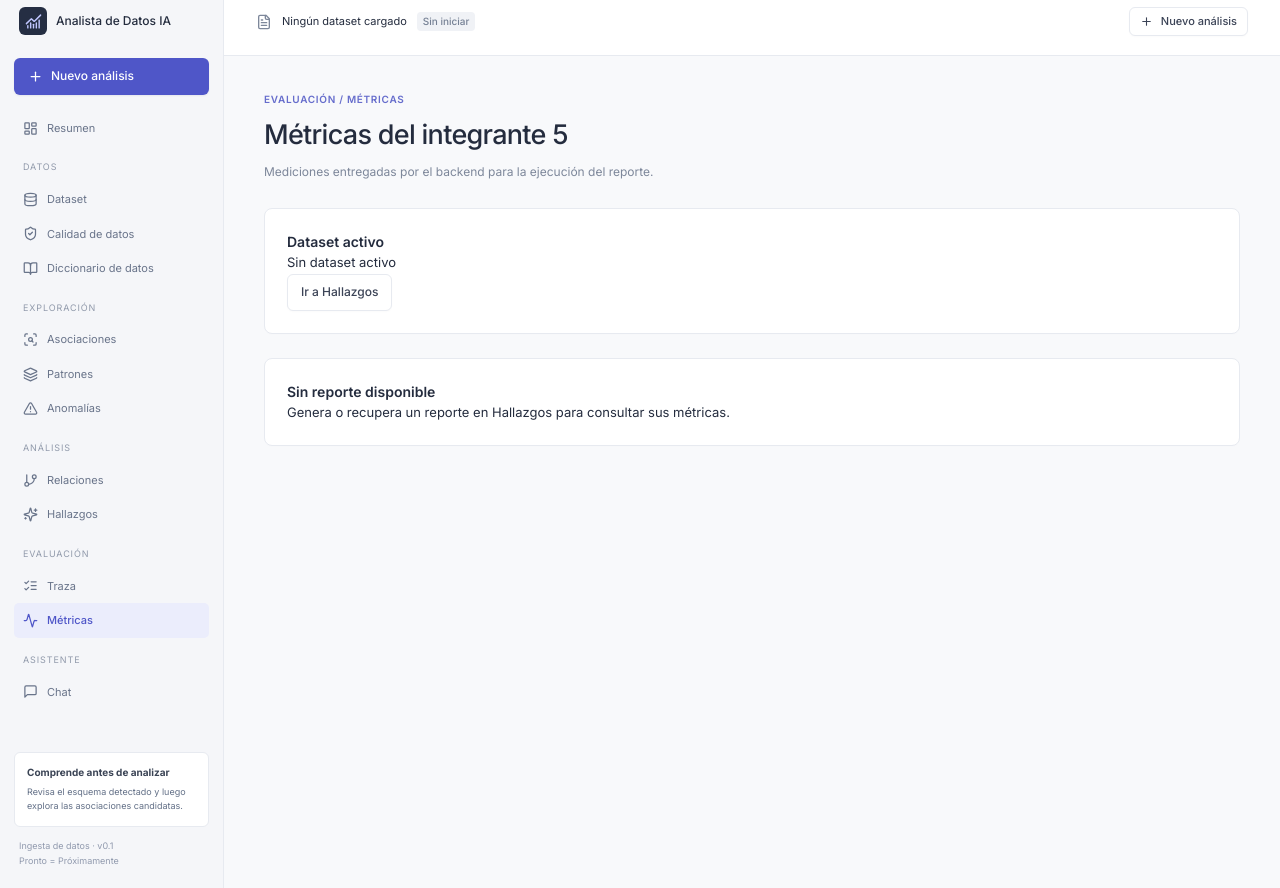
SUCCESS preserves partial measurements, causes and provenance
Step 1. Click the link "Hallazgos" → click(60, 515), box [23,507,98,522]
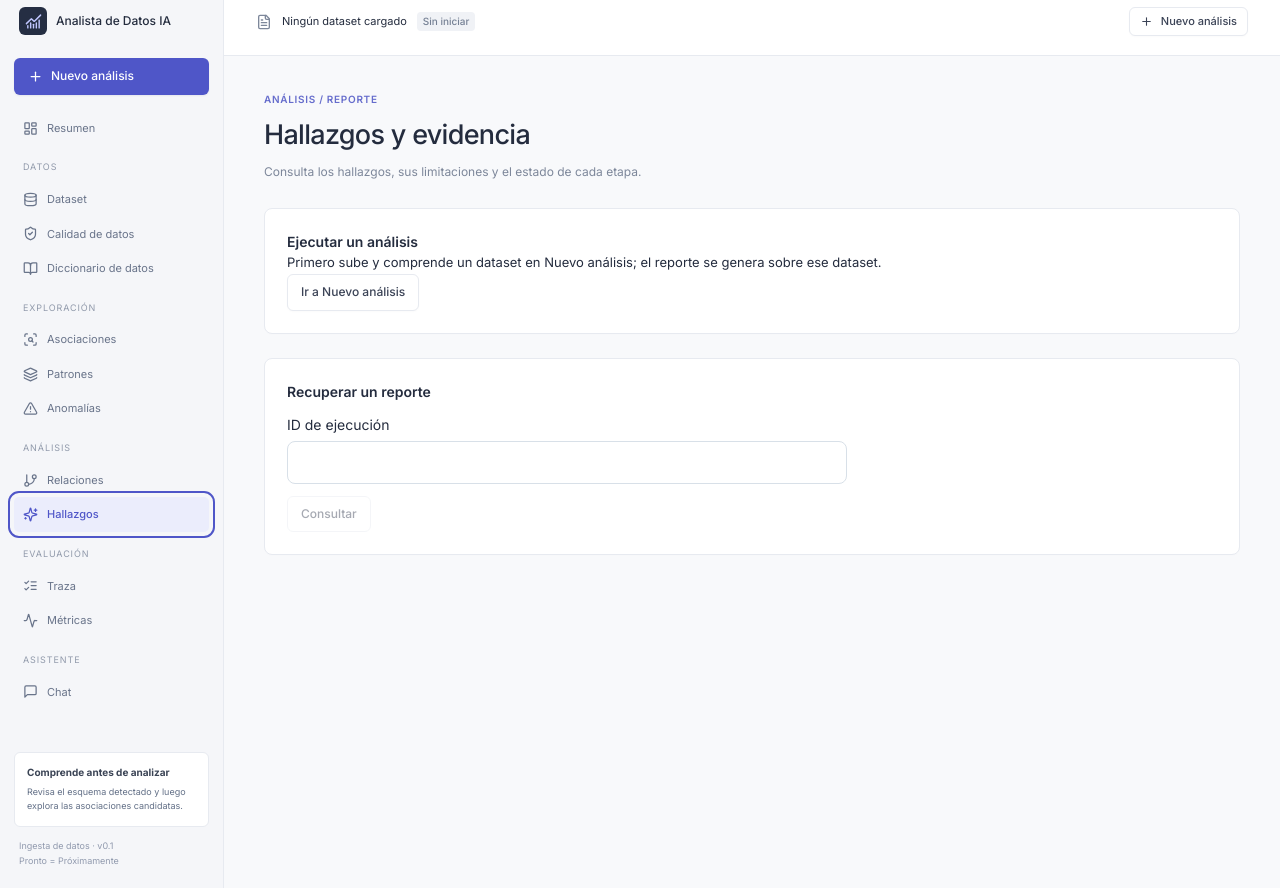
Step 2. Type "metrics-run-a" into the field labelled "ID de ejecución" → (567, 462), box [287,441,847,484]
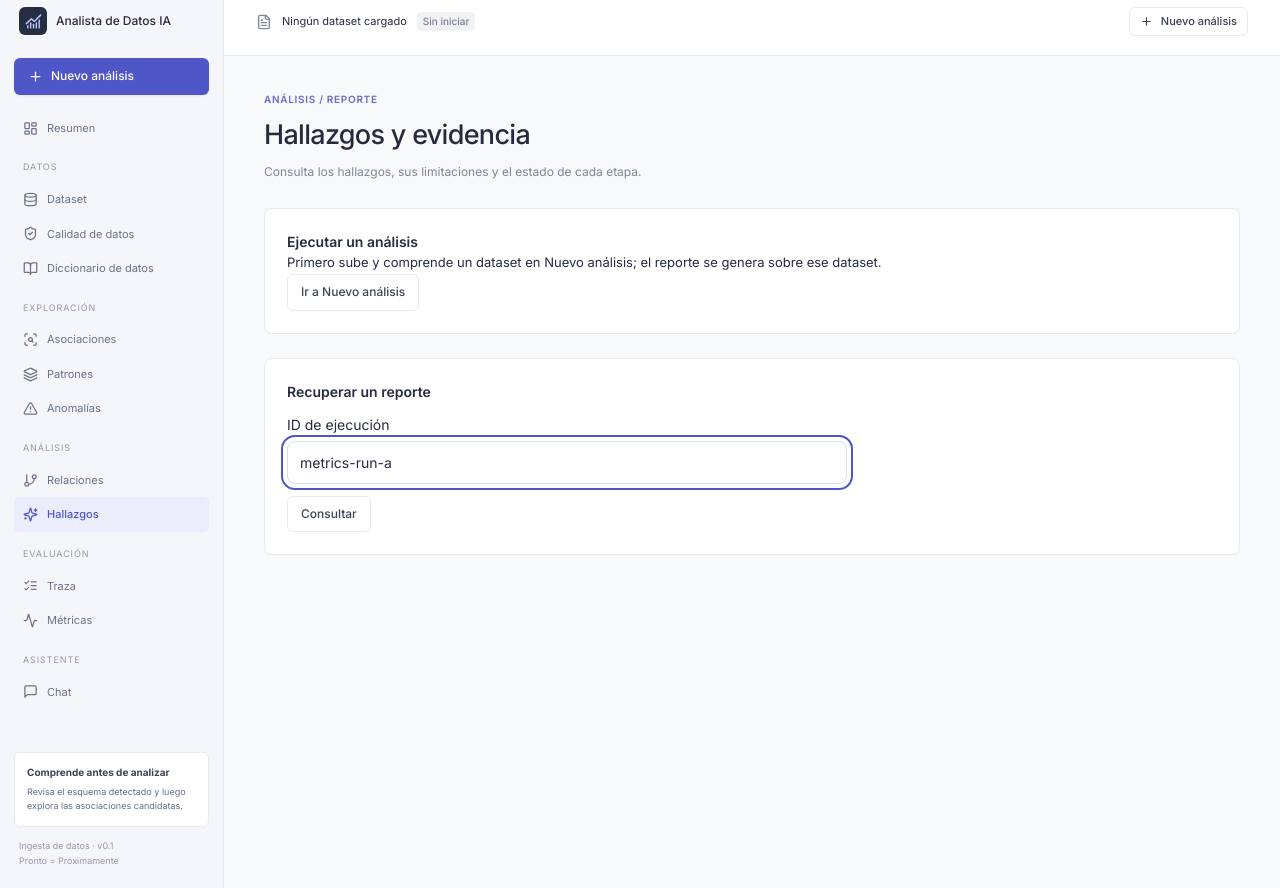
Step 3. Click the button "Consultar" → click(329, 514), box [287,496,371,532]
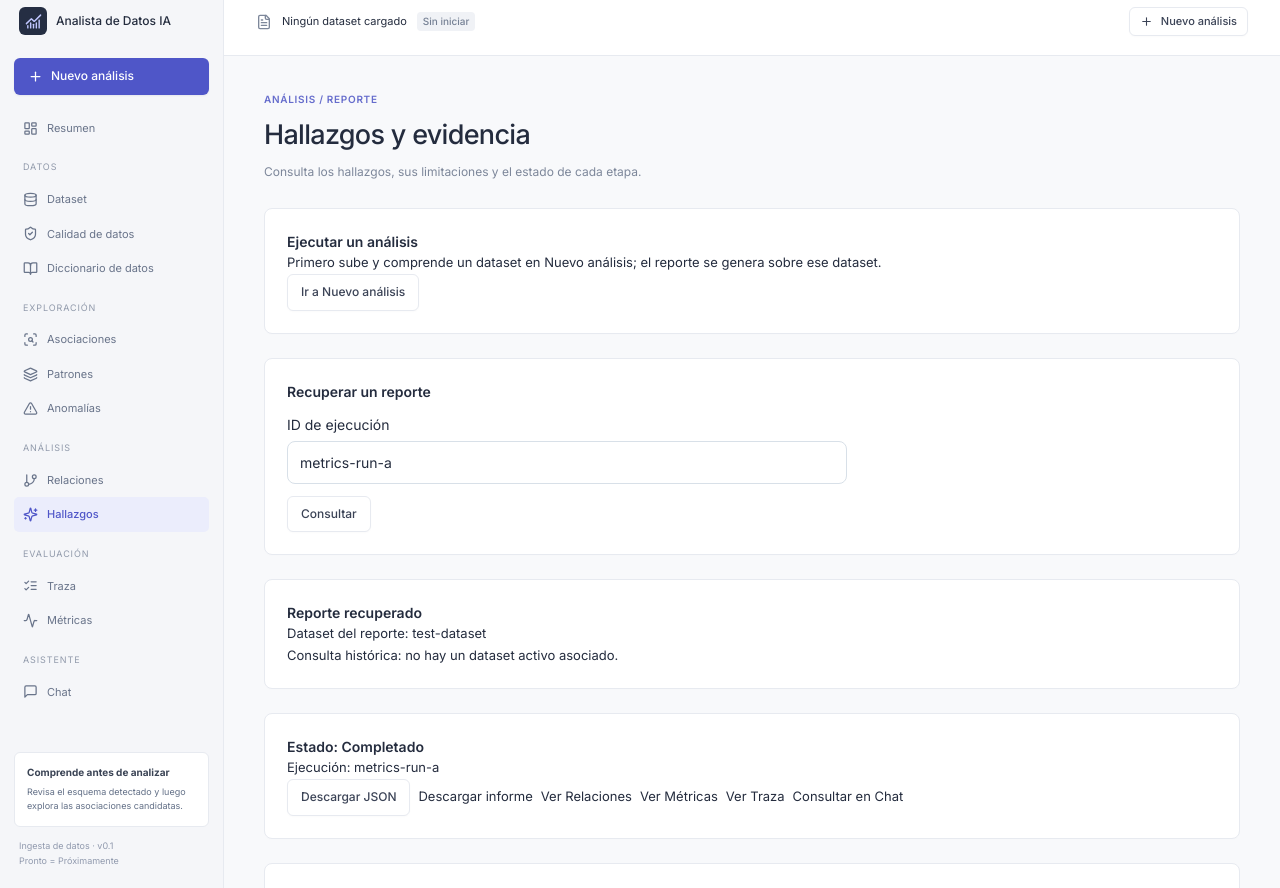
Step 4. Click the link "Métricas" → click(58, 620), box [23,613,92,628]
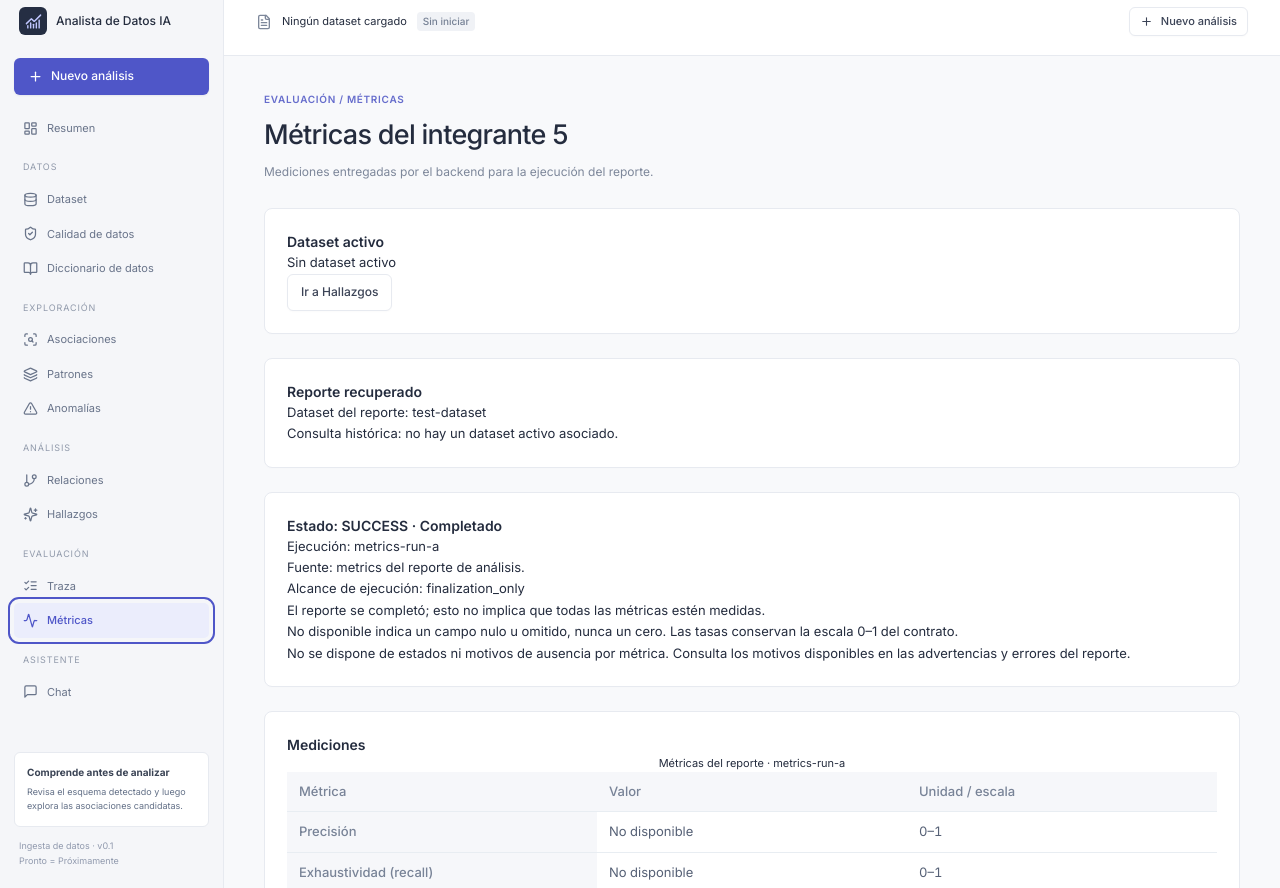
Now the text "Dataset del reporte: test-dataset" is shown, box [287,404,486,420]
Now the row "Precisión No disponible 0–1" is shown, box [287,812,1217,852]
Now the text "Alcance de ejecución: finalization_only" is shown, box [287,580,525,596]
Step 5. Click the link "Resumen" → click(59, 128), box [23,120,95,136]
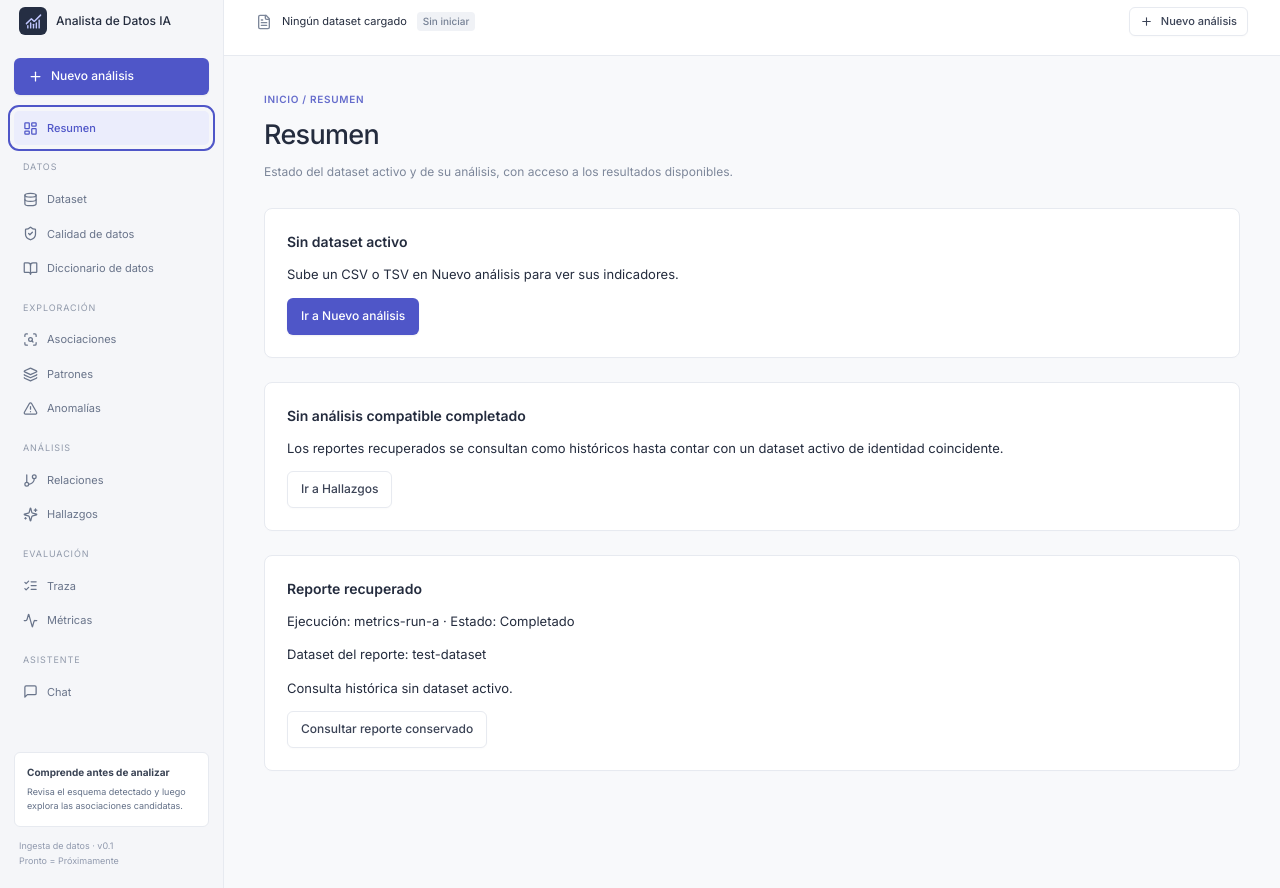
Step 6. Click the link "Métricas" → click(58, 620), box [23,613,92,628]
(page scrolled)
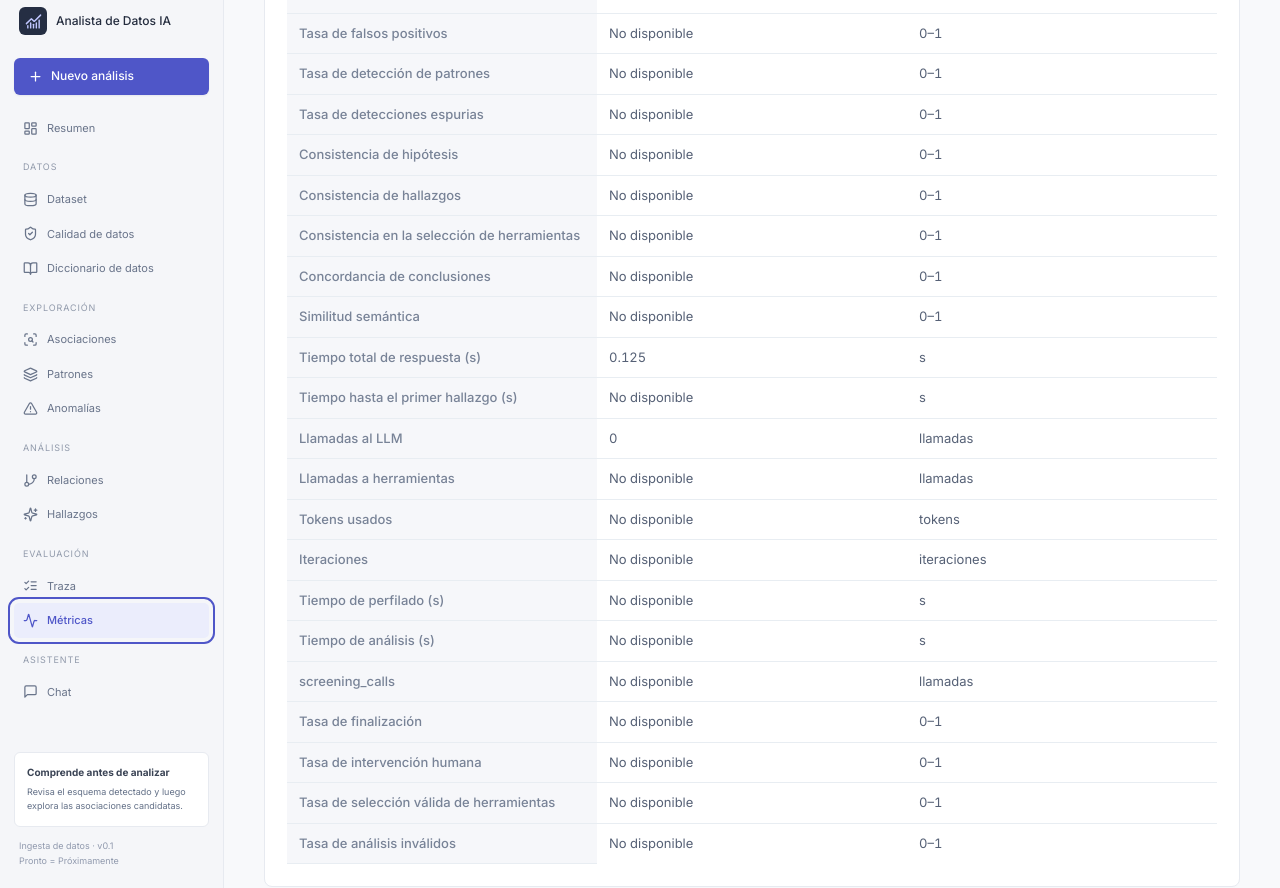
Now the row "Llamadas al LLM 0 llamadas" is shown, box [287,418,1217,459]
